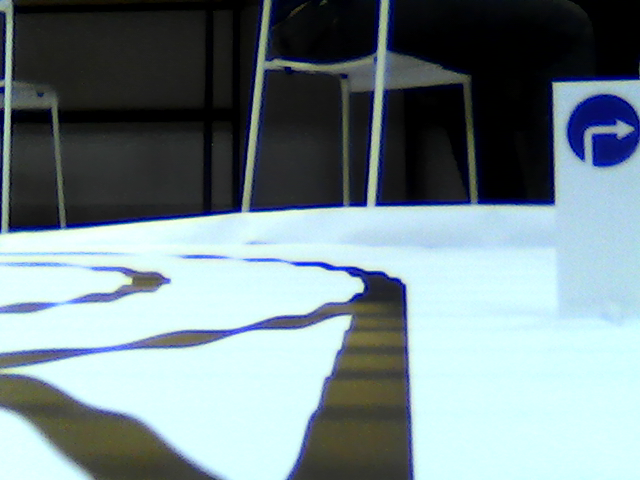Right: (566, 92, 640, 170)
